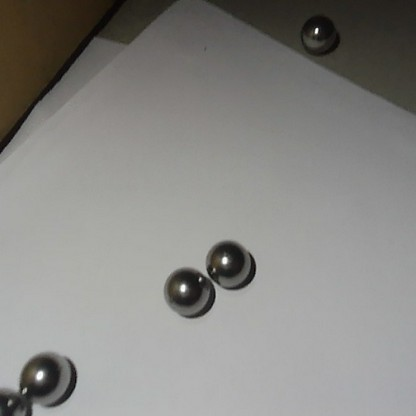ironball: (19, 349, 77, 404), (164, 265, 217, 321), (204, 235, 255, 288), (296, 12, 342, 58), (0, 387, 32, 414)
